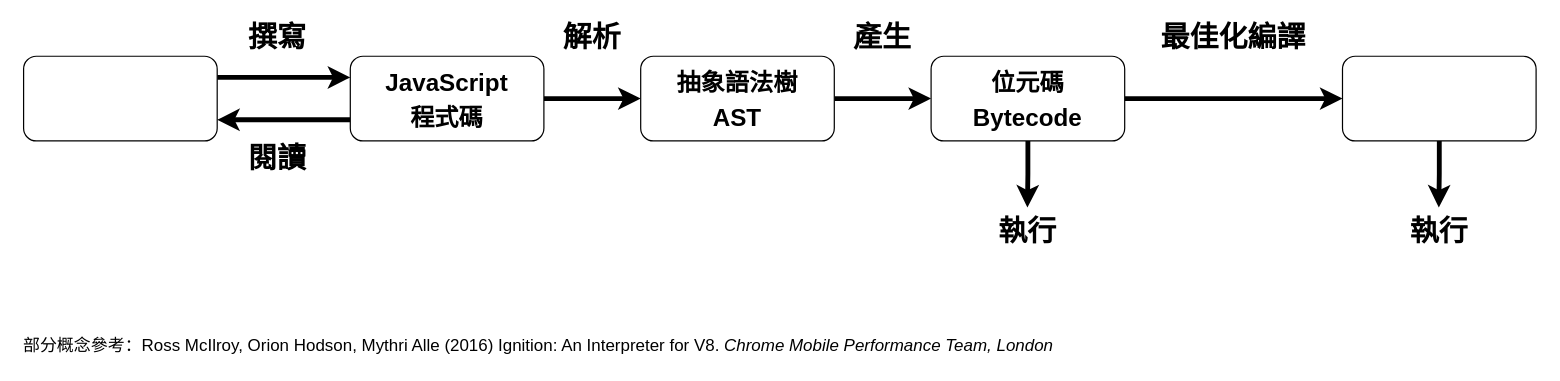
Image size: 1560x381. Some labels were removed from this diagram. Each missing label, with the box of its shape:
機械碼 Machine Code: (1341, 55, 1536, 141)
開發者 Developer: (22, 55, 217, 141)
